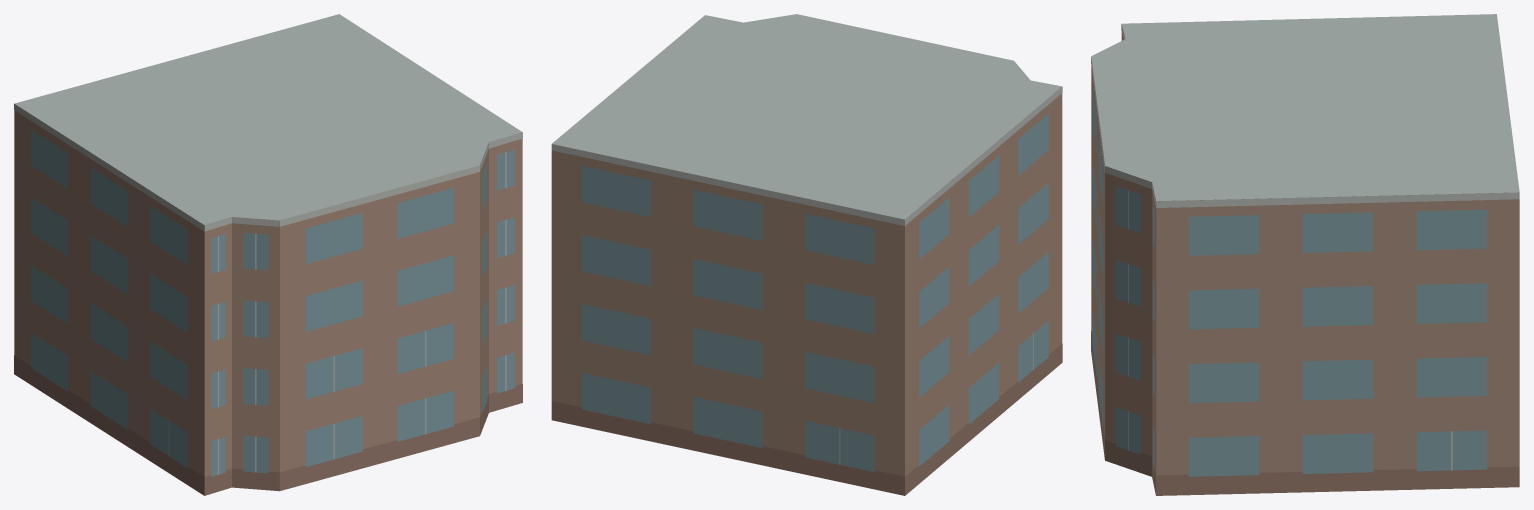
The model's file is survey-upis-32908471.glb.
3 views of the same model, side by side, from view 1: azimuth 30°, elevation 25°; view 2: azimuth 150°, elevation 25°; view 3: azimuth 270°, elevation 25° (orthographic). The views are drawn at different scales.
Parts seen in each view (by area): view 1: survey-upis-32908471.tmp; view 2: survey-upis-32908471.tmp; view 3: survey-upis-32908471.tmp.
Boxes of the visible parts, x1,y1,x2,y2 form: survey-upis-32908471.tmp: (14,14,522,495); survey-upis-32908471.tmp: (551,14,1062,495); survey-upis-32908471.tmp: (1091,14,1519,495).
Bounding box in the file's own units: 14.17 × 10.4 × 13.72.
